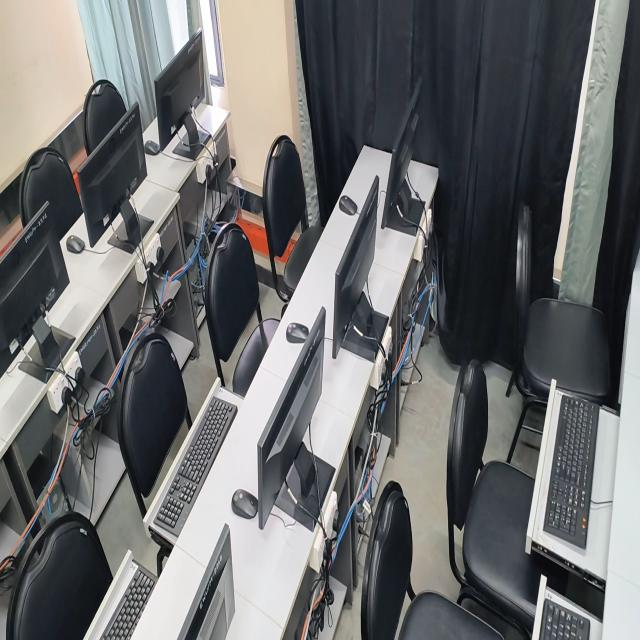Chair: (446, 360, 543, 639), (506, 205, 610, 462), (362, 481, 504, 639), (6, 511, 113, 639), (118, 333, 191, 519), (205, 223, 261, 386), (262, 135, 307, 299), (20, 148, 83, 239), (84, 79, 127, 156)
Keyboard: (143, 378, 243, 550), (544, 396, 599, 550), (101, 566, 156, 639), (541, 598, 590, 639)
Monitor: (257, 309, 325, 529), (0, 201, 69, 375), (79, 103, 146, 246), (155, 31, 227, 159), (332, 176, 379, 359), (381, 81, 425, 235), (178, 525, 235, 639), (36, 333, 59, 364)
Mouse: (232, 489, 258, 519), (286, 322, 309, 343), (339, 195, 357, 216), (66, 235, 85, 254), (144, 140, 161, 155)
